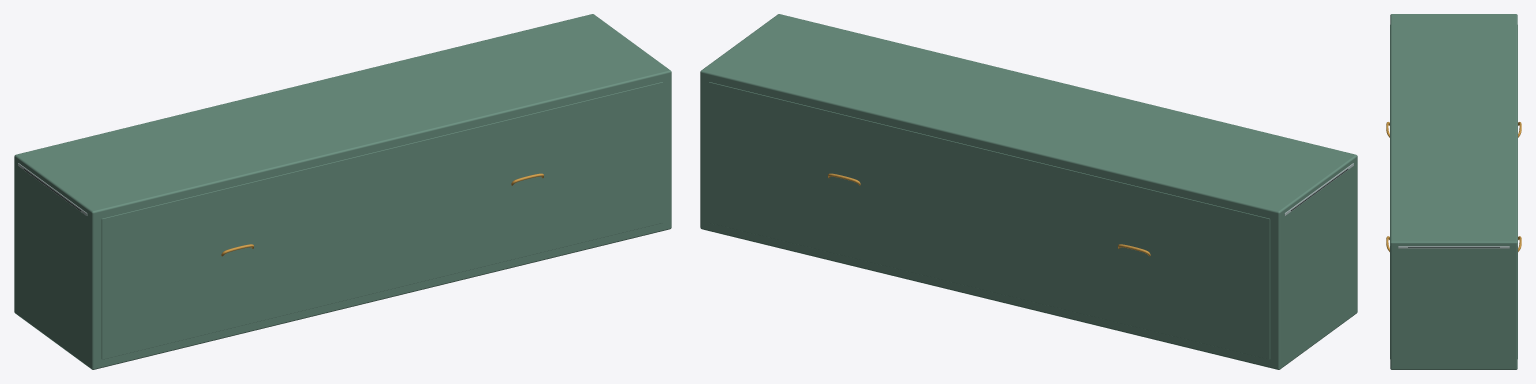
File: drawer-two-base.glb
3 views of the same model, side by side, from view 1: azimuth 30°, elevation 25°; view 2: azimuth 150°, elevation 25°; view 3: azimuth 270°, elevation 25° (orthographic). The views are drawn at different scales.
Visible parts, largest first — view 1: sage; view 2: sage; view 3: sage, steel, brass.
Part boxes in pixels (x1,y1,x2,y2): sage: (14, 14, 671, 369); sage: (700, 14, 1357, 369); sage: (1390, 14, 1517, 369); steel: (1398, 246, 1509, 248); brass: (1386, 122, 1521, 251).
Size of the model in its own units: 34.09 by 8.9 by 8.52.
